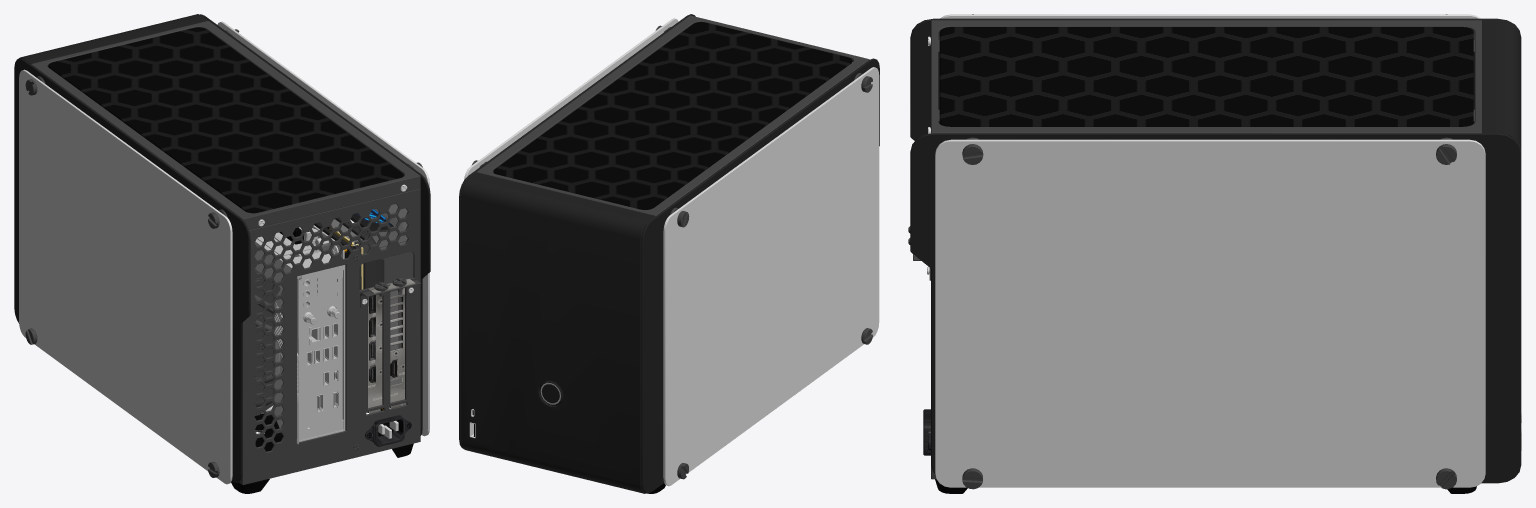
Rendered from Ophion.fbx.
3 views of the same model, side by side, from view 1: azimuth 30°, elevation 25°; view 2: azimuth 150°, elevation 25°; view 3: azimuth 270°, elevation 25° (orthographic). The views are drawn at different scales.
Parts seen in each view (by area): view 1: Acrylic Panels, Filter, Back Panel, Plane.015, Side Panels, Top Panel.001, Vert, Front Panel, Plane.009, Cube.001, Acrylic Screw, Feets (+1 smaller); view 2: Acrylic Panels, Front Panel, Filter, Side Panels, Top Panel.001, Acrylic Screw, Button; view 3: Acrylic Panels, Filter, Side Panels, Top Panel.001, Front Panel, Acrylic Screw.
Part boxes in pixels (<box>): Acrylic Panels: <box>19,21,429,484</box>; Filter: <box>48,27,403,213</box>; Back Panel: <box>242,188,420,484</box>; Plane.015: <box>254,225,345,444</box>; Side Panels: <box>14,14,430,482</box>; Top Panel.001: <box>31,21,420,230</box>; Vert: <box>329,208,415,413</box>; Front Panel: <box>18,14,208,64</box>; Plane.009: <box>254,269,280,415</box>; Cube.001: <box>365,415,411,446</box>; Acrylic Screw: <box>25,29,422,477</box>; Feets: <box>231,443,413,493</box>; Acrylic Panels: <box>464,18,879,486</box>; Front Panel: <box>461,172,655,493</box>; Filter: <box>493,22,852,209</box>; Side Panels: <box>459,14,879,493</box>; Top Panel.001: <box>476,15,869,216</box>; Acrylic Screw: <box>471,25,872,479</box>; Button: <box>539,380,563,405</box>; Acrylic Panels: <box>935,14,1485,487</box>; Filter: <box>939,27,1473,126</box>; Side Panels: <box>910,18,1521,483</box>; Top Panel.001: <box>931,20,1482,133</box>; Front Panel: <box>1482,20,1521,150</box>; Acrylic Screw: <box>962,14,1456,489</box>.
Bounding box in the file's own units: 19.92 × 25.5 × 38.97.
